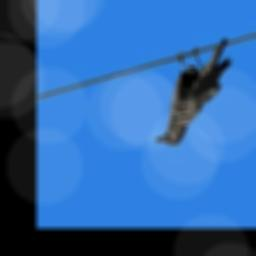Crow: (151, 39, 233, 148)
